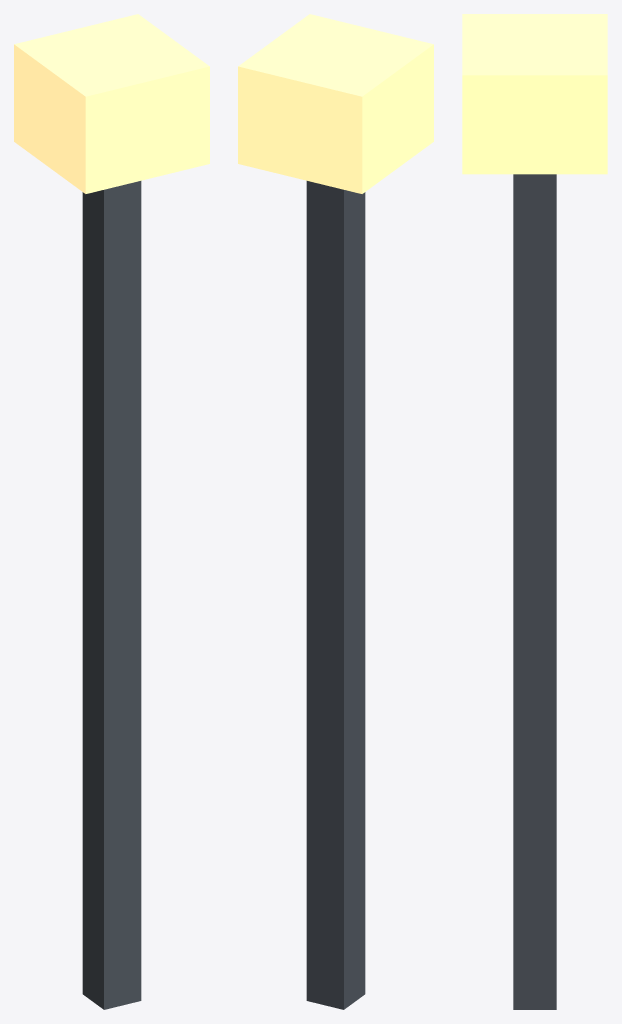
The model's file is street-lamp.gltf.
The picture shows the model from 3 angles, left to right: view 1: azimuth 30°, elevation 25°; view 2: azimuth 150°, elevation 25°; view 3: azimuth 270°, elevation 25°; orthographic projection.
Visible parts, largest first — view 1: streetLamp; view 2: streetLamp; view 3: streetLamp.
Part boxes in pixels (box(x1,y1,x2,y2)): streetLamp: box(14, 14, 209, 1009); streetLamp: box(238, 14, 433, 1009); streetLamp: box(462, 14, 607, 1009).
Size of the model in its own units: 0.4 by 2.9 by 0.4.
